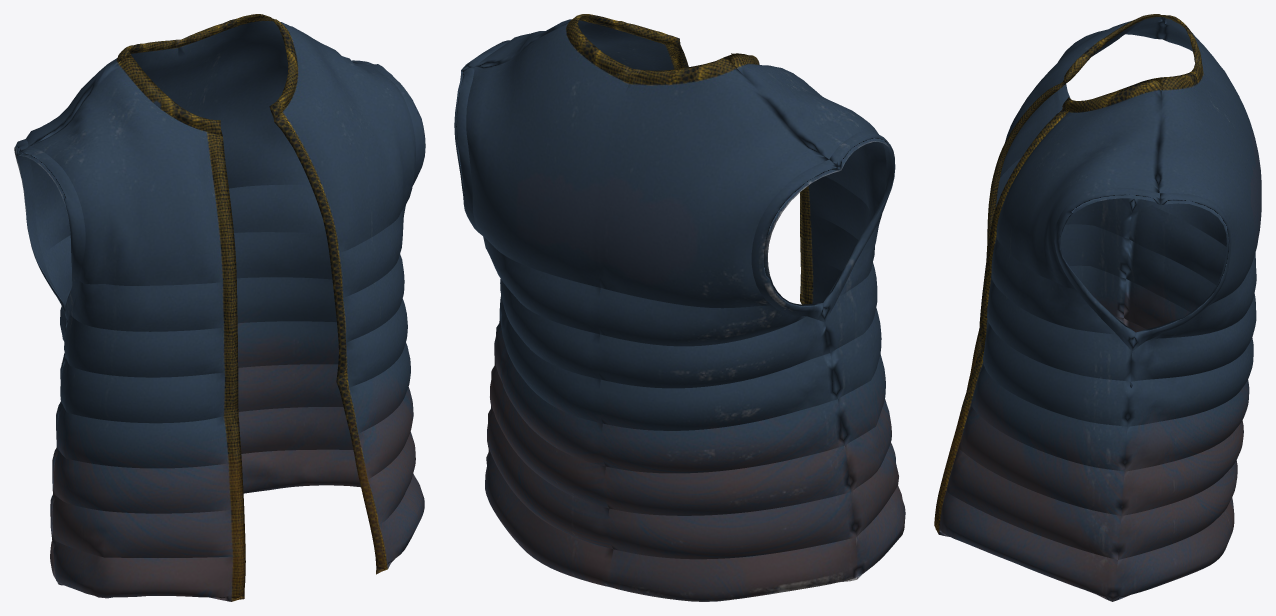
File: jacket.glb
3 renders of one model, left to right at view 1: azimuth 30°, elevation 25°; view 2: azimuth 150°, elevation 25°; view 3: azimuth 270°, elevation 25°, orthographic. The views are drawn at different scales.
Parts seen in each view (by area): view 1: leather; view 2: leather; view 3: leather.
Part boxes in pixels (x1,y1,x2,y2): leather: (14,14,425,601); leather: (454,14,905,601); leather: (934,14,1261,601).
Bounding box in the file's own units: 0.5281 × 0.6939 × 0.4273.
1 material, 1 textured.
